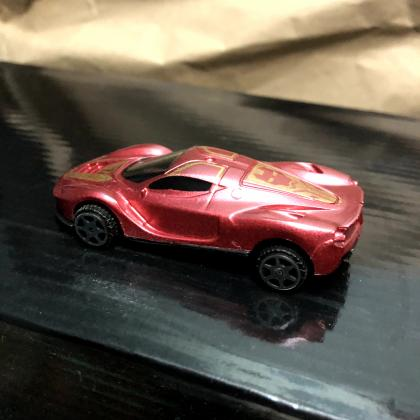Car: (53, 144, 365, 293)
